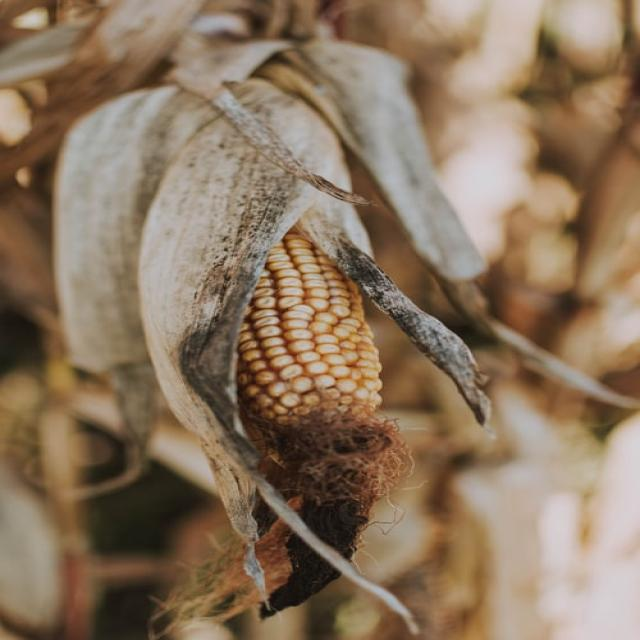Corn: (108, 61, 440, 487)
